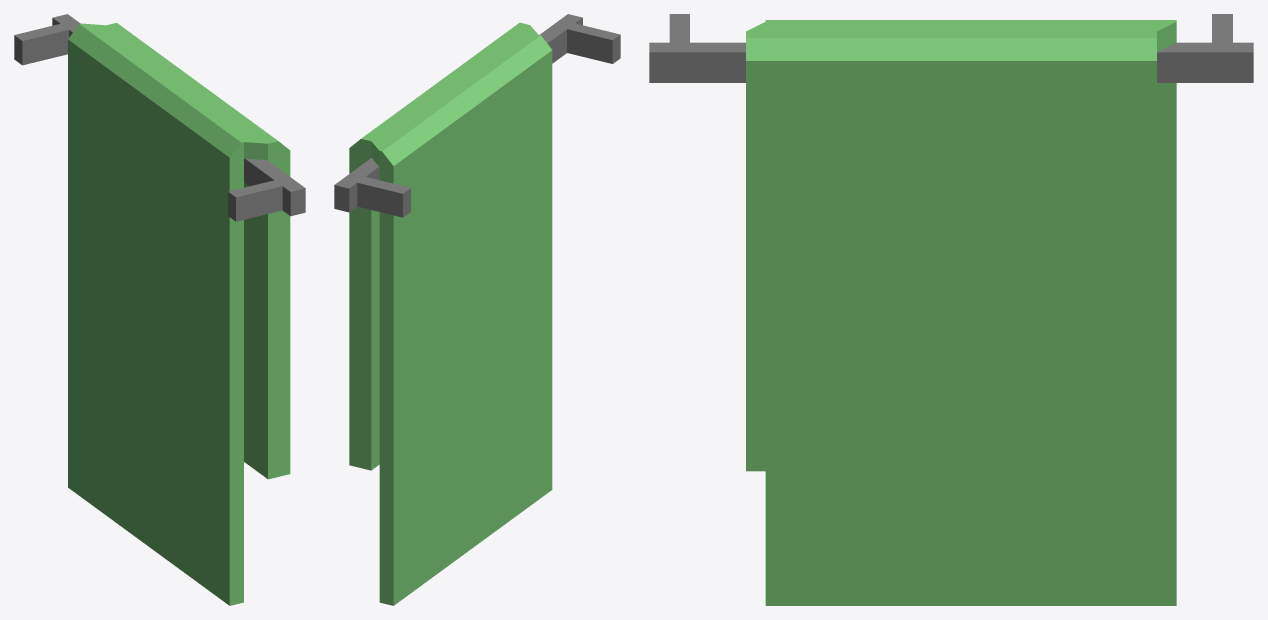
File: Towel.fbx
3 views of the same model, side by side, from view 1: azimuth 30°, elevation 25°; view 2: azimuth 150°, elevation 25°; view 3: azimuth 270°, elevation 25° (orthographic). The views are drawn at different scales.
Parts seen in each view (by area): view 1: Cube.001; view 2: Cube.001; view 3: Cube.001.
Boxes of the visible parts, x1,y1,x2,y2 form: Cube.001: (14,14,305,605); Cube.001: (334,14,620,605); Cube.001: (649,14,1253,605).
Size of the model in its own units: 31.33 by 163 by 153.
